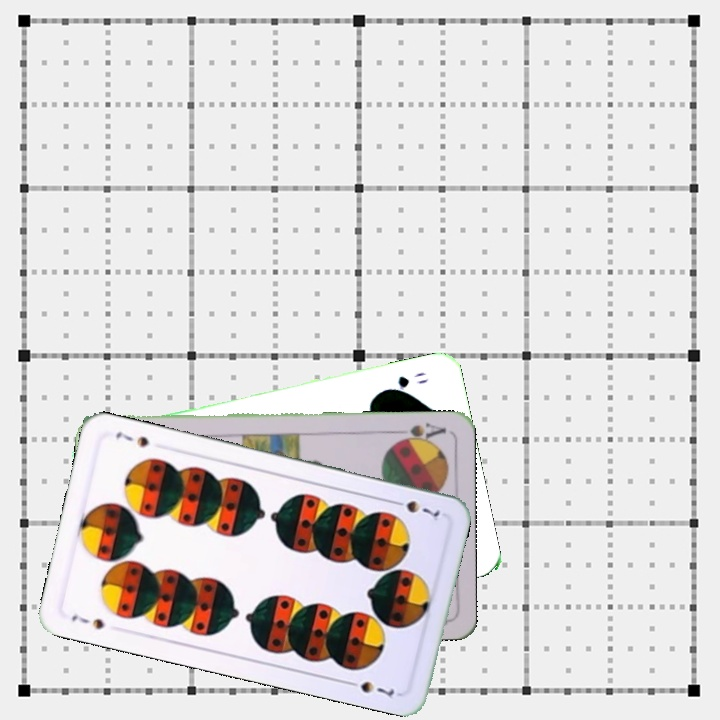GO: (378, 367, 431, 395)
S7: (387, 496, 446, 524), (67, 609, 107, 632)
SA: (390, 418, 449, 445)
